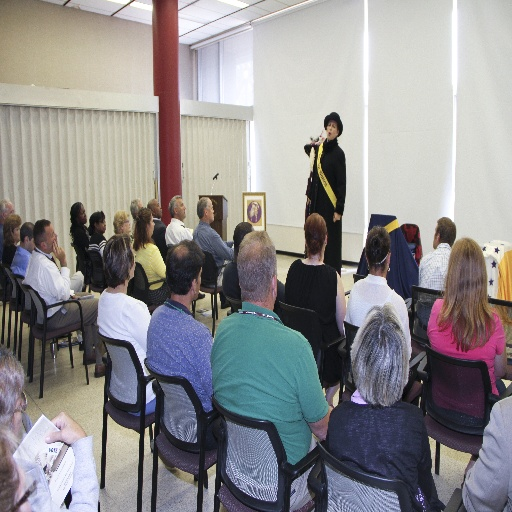hand: (44, 411, 85, 446), (52, 239, 66, 262), (333, 213, 341, 223), (304, 196, 311, 205)
